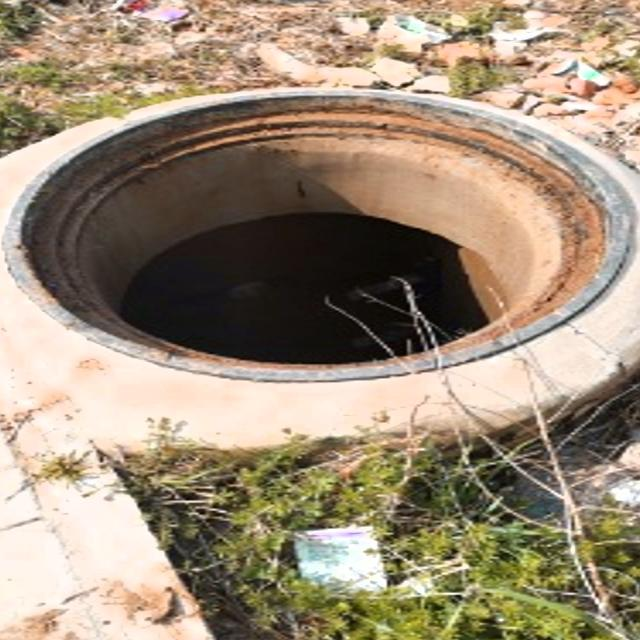lose: (0, 71, 640, 370)
